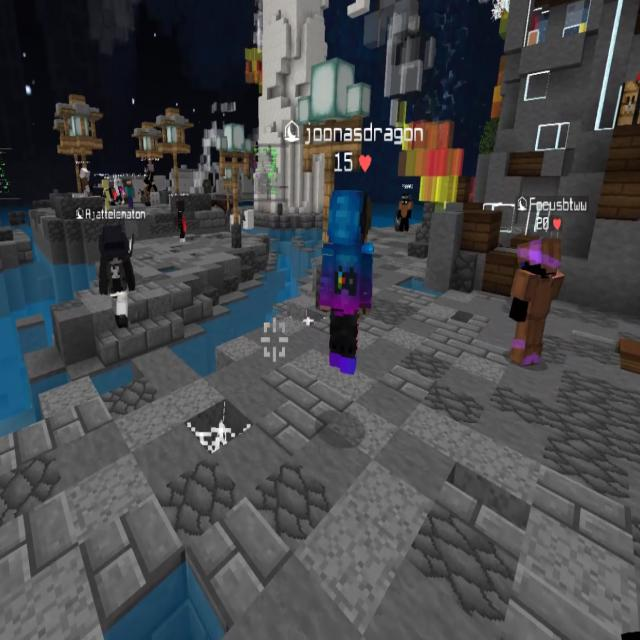Player: (319, 186, 373, 372), (508, 235, 564, 368), (98, 222, 136, 327), (396, 192, 414, 234), (176, 198, 188, 244), (80, 169, 92, 194)
